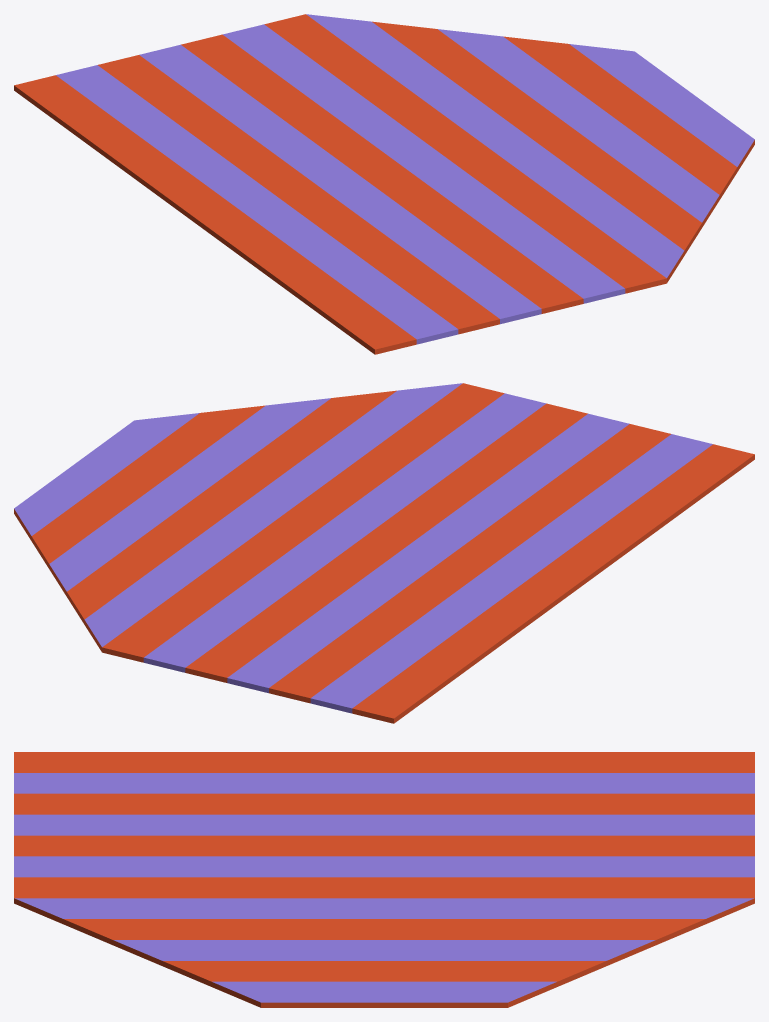
Rendered from salonzemini.fbx.
3 views of the same model, one above another, from view 1: azimuth 30°, elevation 25°; view 2: azimuth 150°, elevation 25°; view 3: azimuth 270°, elevation 25° (orthographic). The views are drawn at different scales.
Parts seen in each view (by area): view 1: salonzemini; view 2: salonzemini; view 3: salonzemini.
Boxes of the visible parts, x1,y1,x2,y2 form: salonzemini: (14,14,754,354); salonzemini: (14,383,754,723); salonzemini: (14,752,754,1007).
Size of the model in its own units: 1200 by 11.9 by 1500.
